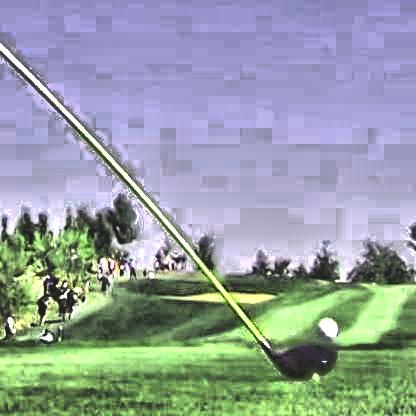golfball: (315, 315, 336, 337)
